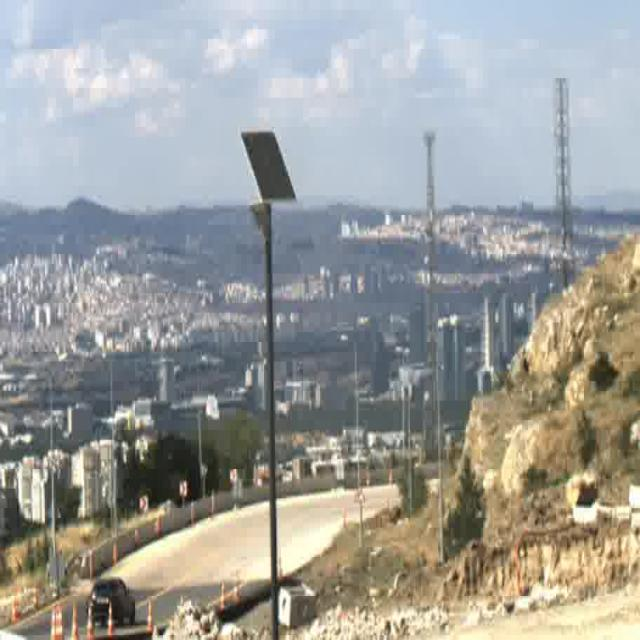Car: (88, 576, 134, 626)
